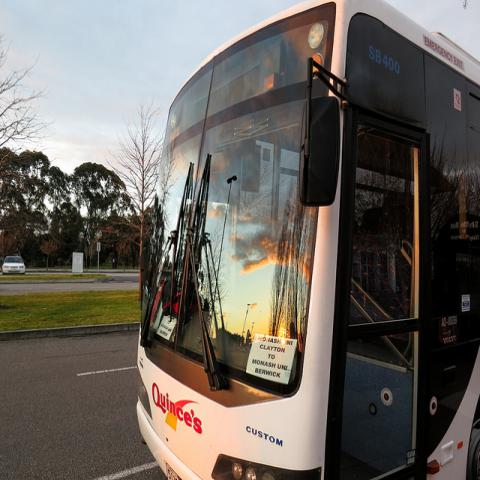bus: (137, 1, 480, 475)
car: (2, 256, 27, 275)
